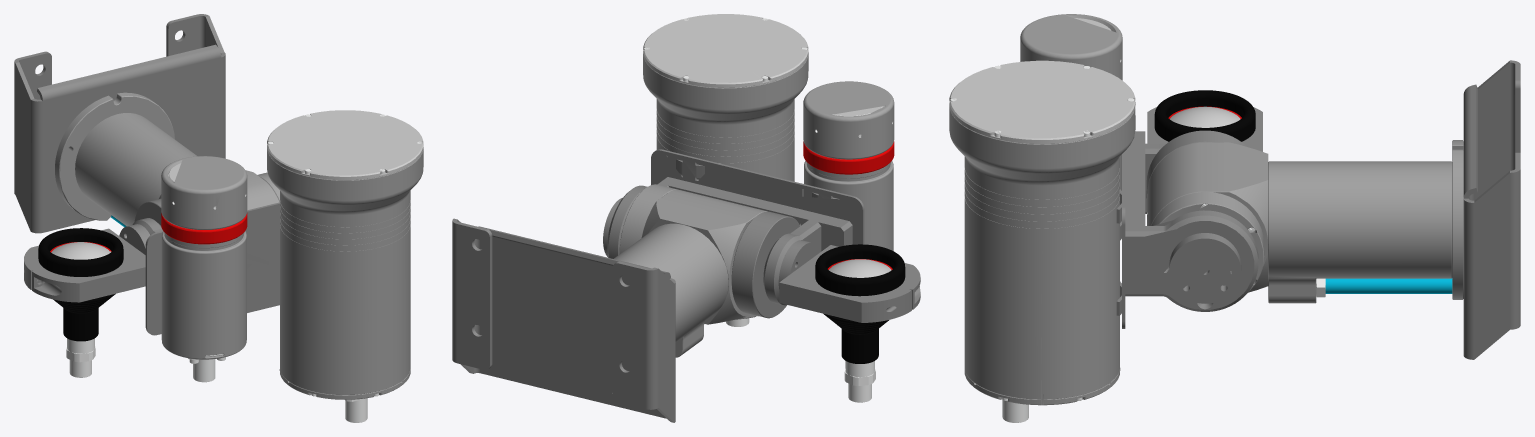
The model's file is PanTilt_Unity.fbx.
3 renders of one model, left to right at view 1: azimuth 30°, elevation 25°; view 2: azimuth 150°, elevation 25°; view 3: azimuth 270°, elevation 25°, orthographic. The views are drawn at different scales.
Visible parts, largest first — view 1: Plate, Base, Upper; view 2: Plate, Base, Upper; view 3: Plate, Base, Upper.
Part boxes in pixels (x1=…): Plate: x1=24, y1=110, x2=423, y2=422; Base: x1=14, y1=14, x2=225, y2=233; Upper: x1=159, y1=170, x2=279, y2=210; Plate: x1=603, y1=14, x2=920, y2=402; Base: x1=452, y1=218, x2=728, y2=422; Upper: x1=619, y1=184, x2=767, y2=324; Plate: x1=949, y1=14, x2=1262, y2=422; Base: x1=1268, y1=60, x2=1520, y2=359; Upper: x1=1147, y1=142, x2=1268, y2=293.
Bounding box in the file's own units: 32.29 × 26.35 × 42.93.
